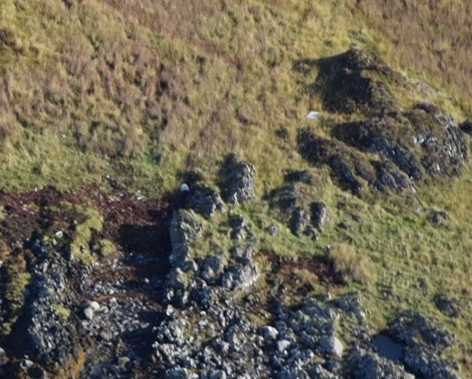white_in_green: (160, 164, 206, 207), (288, 91, 334, 133)
